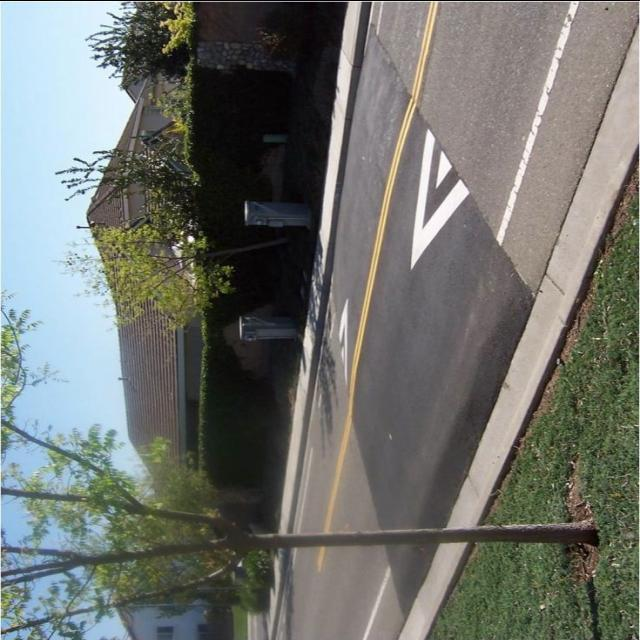speedbreaker: (336, 30, 534, 593)
